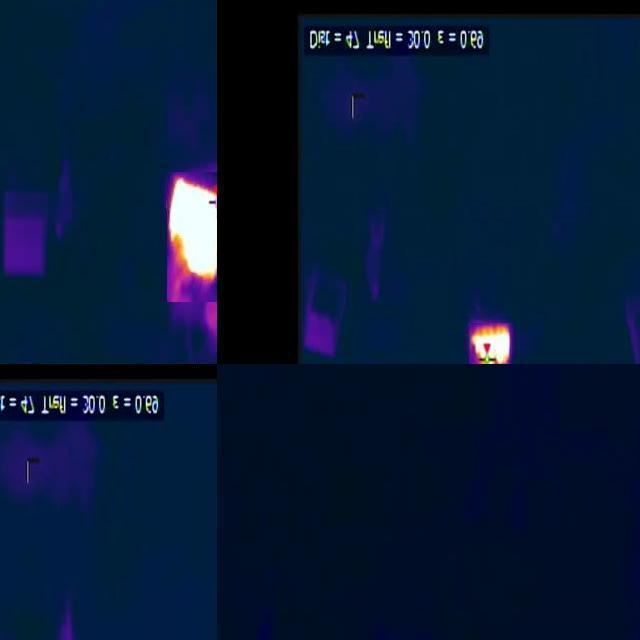fire: (167, 172, 218, 302), (470, 323, 510, 365)
